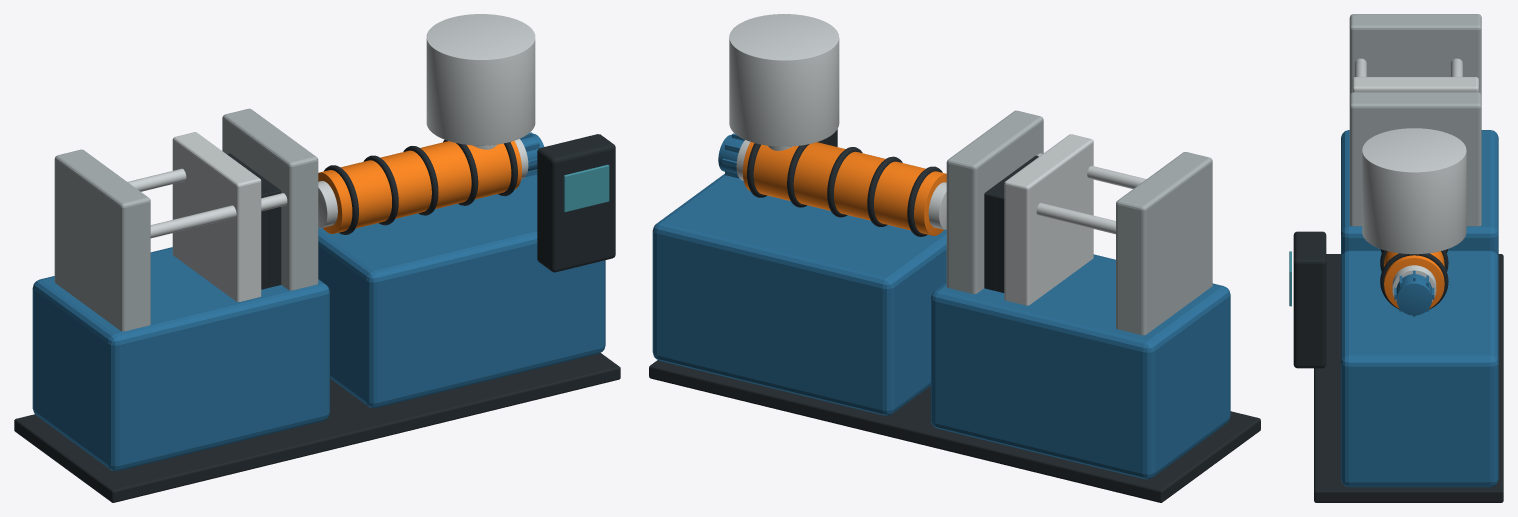
File: injection_molding_machine.glb
3 views of the same model, side by side, from view 1: azimuth 30°, elevation 25°; view 2: azimuth 150°, elevation 25°; view 3: azimuth 270°, elevation 25° (orthographic). The views are drawn at different scales.
Visible parts, largest first — view 1: CLAMP_BASE, INJECTION_BASE, MACHINE_BASE, CLAMP_PLATEN_-1.7, FEED_HOPPER, KIN_MOVING_PLATEN, BARREL_HEATER_BANDS, CLAMP_PLATEN_-0.35, OPERATOR_CONTROL, HMI, TIE_BAR_-0.35_1.84, MOLD_B (+3 smaller); view 2: INJECTION_BASE, CLAMP_BASE, MACHINE_BASE, CLAMP_PLATEN_-1.7, FEED_HOPPER, KIN_MOVING_PLATEN, BARREL_HEATER_BANDS, CLAMP_PLATEN_-0.35, MOLD_B, TIE_BAR_0.35_1.84, KIN_INJECTION_SCREW, MOLD_A (+1 smaller); view 3: INJECTION_BASE, FEED_HOPPER, MACHINE_BASE, CLAMP_PLATEN_-0.35, CLAMP_PLATEN_-1.7, OPERATOR_CONTROL, CLAMP_BASE, KIN_MOVING_PLATEN, BARREL_HEATER_BANDS, SCREW_DRIVE, HEATER_BAND_1.48, KIN_INJECTION_SCREW.
Part boxes in pixels (bbox=[...]): CLAMP_BASE: bbox=[32, 247, 329, 470]; INJECTION_BASE: bbox=[318, 174, 605, 407]; MACHINE_BASE: bbox=[14, 353, 620, 502]; CLAMP_PLATEN_-1.7: bbox=[54, 149, 150, 331]; FEED_HOPPER: bbox=[426, 14, 535, 145]; KIN_MOVING_PLATEN: bbox=[172, 132, 261, 301]; BARREL_HEATER_BANDS: bbox=[318, 141, 521, 233]; CLAMP_PLATEN_-0.35: bbox=[222, 108, 318, 290]; OPERATOR_CONTROL: bbox=[537, 134, 615, 272]; HMI: bbox=[563, 164, 609, 212]; TIE_BAR_-0.35_1.84: bbox=[150, 193, 287, 238]; MOLD_B: bbox=[227, 153, 281, 287]; INJECTION_BASE: bbox=[652, 174, 946, 415]; CLAMP_BASE: bbox=[931, 254, 1230, 479]; MACHINE_BASE: bbox=[649, 360, 1260, 502]; CLAMP_PLATEN_-1.7: bbox=[1116, 152, 1212, 335]; FEED_HOPPER: bbox=[729, 14, 839, 146]; KIN_MOVING_PLATEN: bbox=[1004, 134, 1093, 305]; BARREL_HEATER_BANDS: bbox=[742, 142, 946, 235]; CLAMP_PLATEN_-0.35: bbox=[946, 110, 1043, 293]; MOLD_B: bbox=[984, 155, 1038, 290]; TIE_BAR_0.35_1.84: bbox=[1036, 203, 1115, 234]; KIN_INJECTION_SCREW: bbox=[736, 140, 946, 229]; MOLD_A: bbox=[996, 191, 1004, 292]; INJECTION_BASE: bbox=[1341, 250, 1498, 487]; FEED_HOPPER: bbox=[1362, 128, 1466, 254]; MACHINE_BASE: bbox=[1314, 254, 1503, 502]; CLAMP_PLATEN_-0.35: bbox=[1349, 92, 1481, 226]; CLAMP_PLATEN_-1.7: bbox=[1349, 14, 1481, 95]; OPERATOR_CONTROL: bbox=[1293, 231, 1326, 368]; CLAMP_BASE: bbox=[1341, 130, 1498, 257]; KIN_MOVING_PLATEN: bbox=[1352, 77, 1478, 92]; BARREL_HEATER_BANDS: bbox=[1384, 251, 1444, 308]; SCREW_DRIVE: bbox=[1396, 274, 1431, 315]; HEATER_BAND_1.48: bbox=[1380, 253, 1448, 309]; KIN_INJECTION_SCREW: bbox=[1392, 265, 1436, 301].
Bounding box in the file's own units: 4.11 × 2.51 × 1.56.
